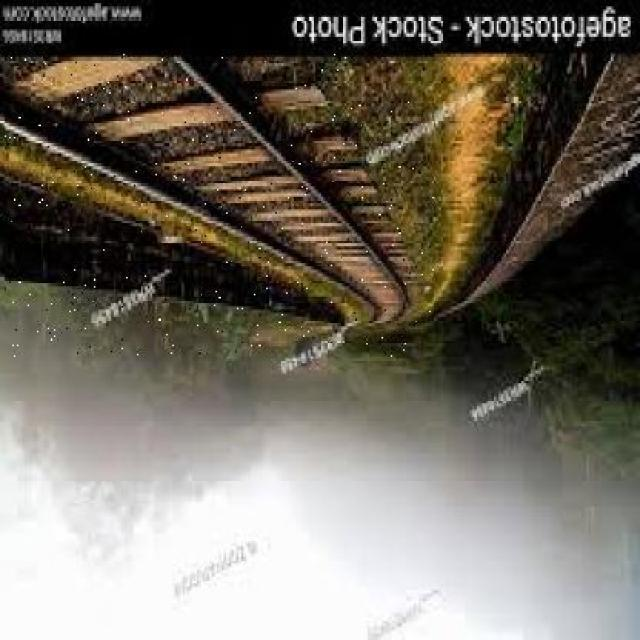rail: (6, 55, 434, 358)
